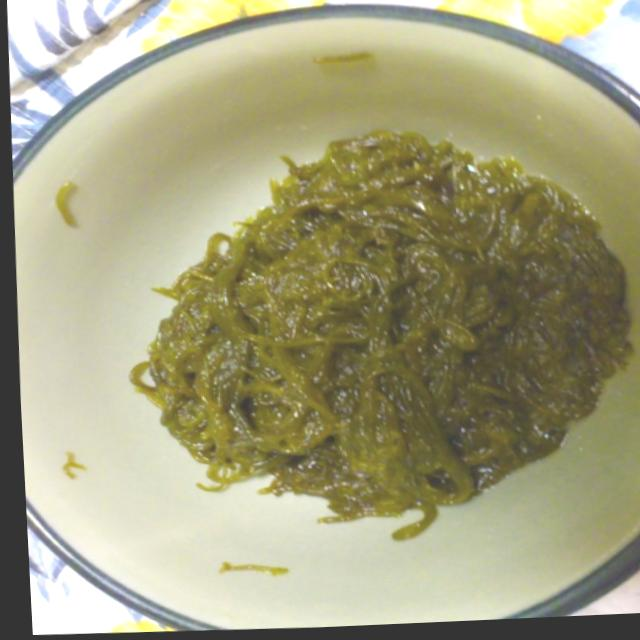蔬菜料理: (39, 70, 640, 616)
